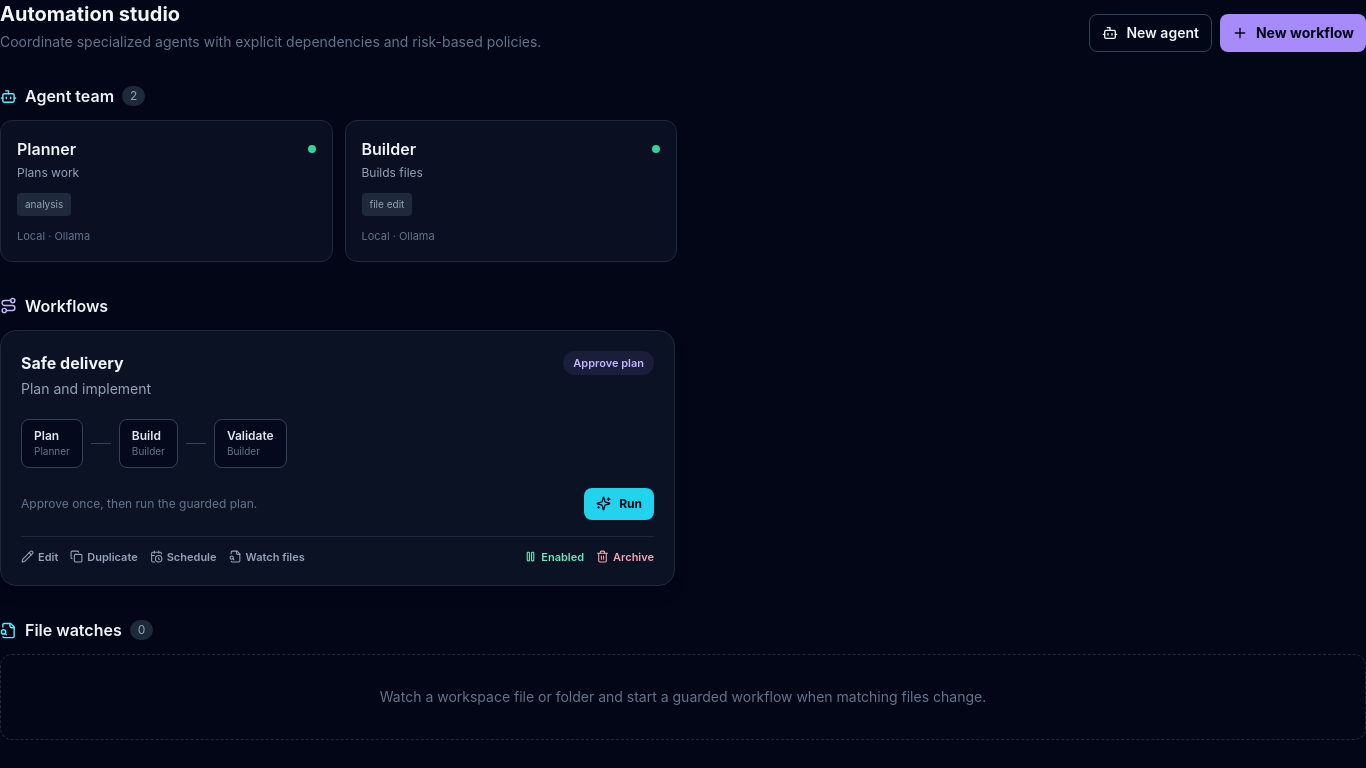
Test case: AutomationDashboard › shows the agent team and opens a workflow run form
The width and height of the screenshot is (1366, 768).
Expected: the heading "Planner" is shown, [17,137,76,161]
Expected: the heading "Builder" is shown, [362,137,416,161]
Click the button "Run": coordinates (619, 504) [584,488,654,520]
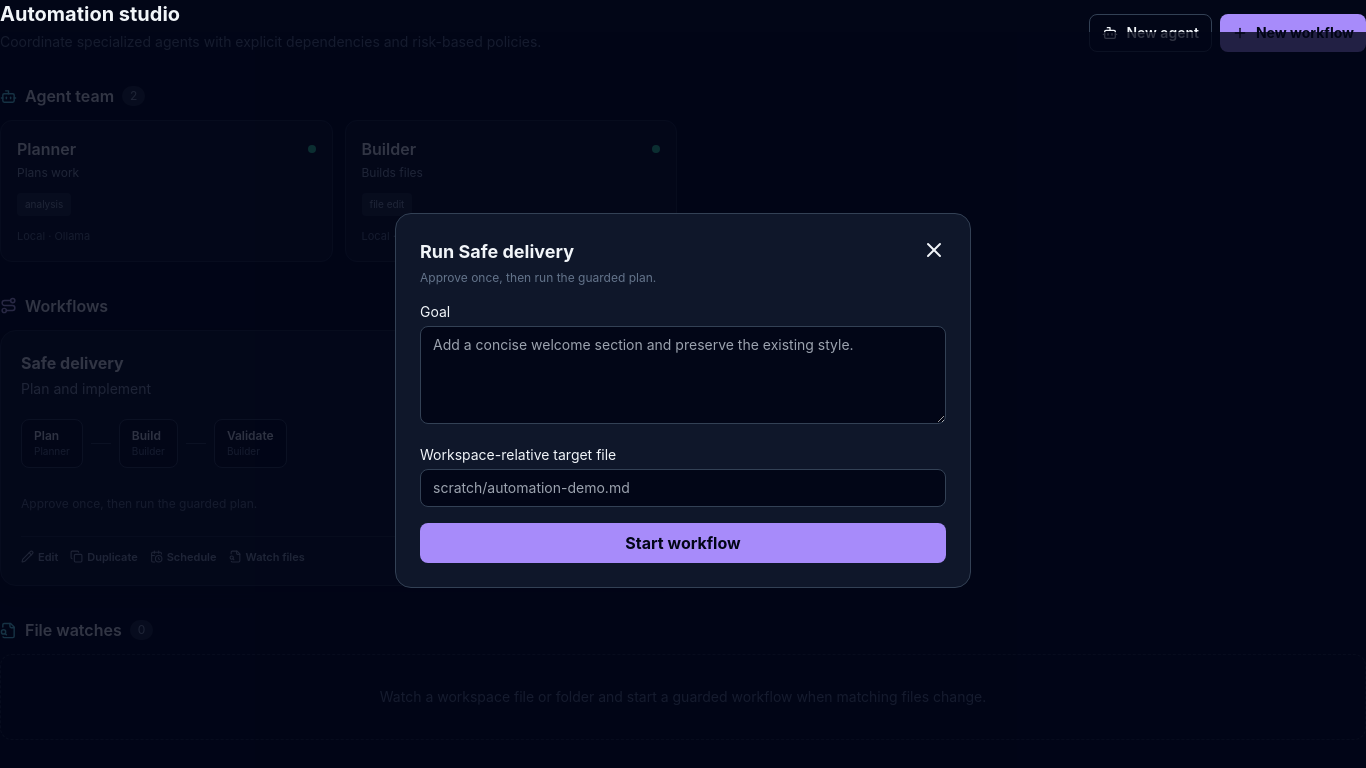
Now the heading "Run Safe delivery" is shown, box [420,240,574,262]
Now the text box labelled "Goal" is shown, box [420,326,946,424]
Now the field labelled "Workspace-relative target file" is shown, box [420,468,946,506]
